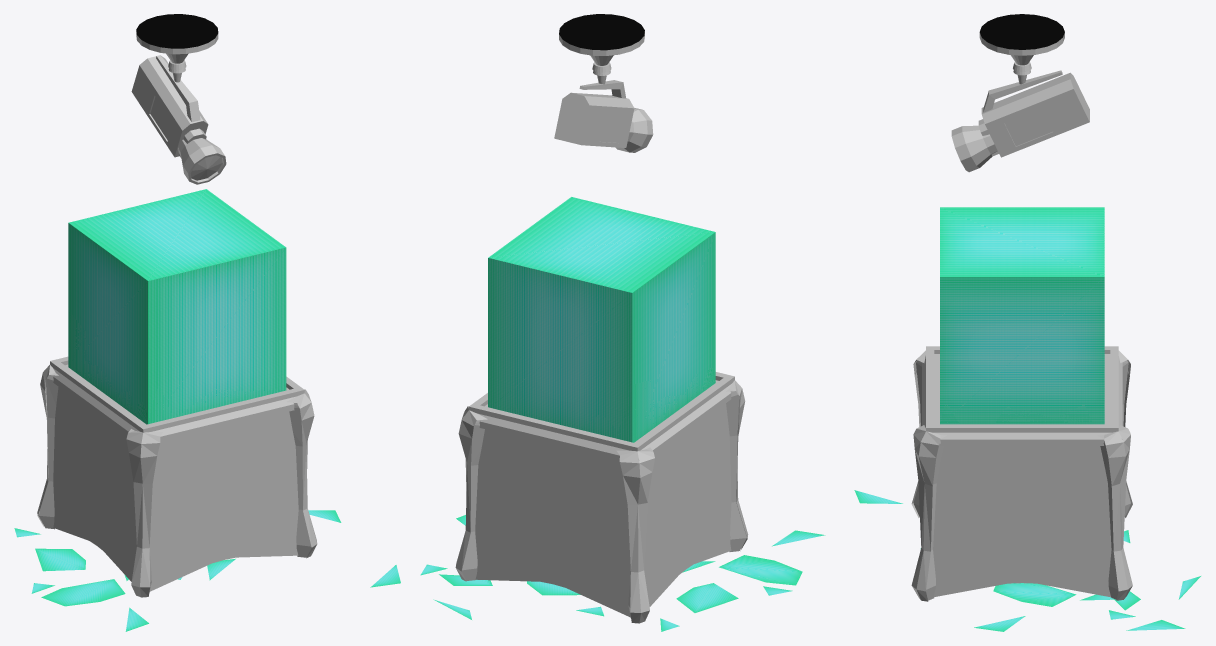
Rendered from Level1_Add1.fbx.
The picture shows the model from 3 angles, left to right: view 1: azimuth 30°, elevation 25°; view 2: azimuth 150°, elevation 25°; view 3: azimuth 270°, elevation 25°; orthographic projection. The views are drawn at different scales.
Visible parts, largest first — view 1: Base, Case_Intact, Case_Broken, Camera, SecurityCamera; view 2: Base, Case_Intact, Case_Broken, Camera, SecurityCamera; view 3: Base, Case_Intact, Camera, Case_Broken, SecurityCamera.
Boxes of the visible parts, x1,y1,x2,y2 form: Base: (37,356,317,597); Case_Intact: (68,189,286,424); Case_Broken: (14,314,341,631); Camera: (131,55,226,184); SecurityCamera: (136,14,218,82); Base: (455,372,748,623); Case_Intact: (488,197,715,442); Case_Broken: (370,368,825,631); Camera: (554,80,653,152); SecurityCamera: (559,14,644,84); Base: (911,346,1132,601); Case_Intact: (940,207,1104,424); Camera: (951,70,1089,172); Case_Broken: (854,405,1200,631); SecurityCamera: (979,14,1064,84).
Bounding box in the file's own units: 96.61 × 150 × 89.79.
